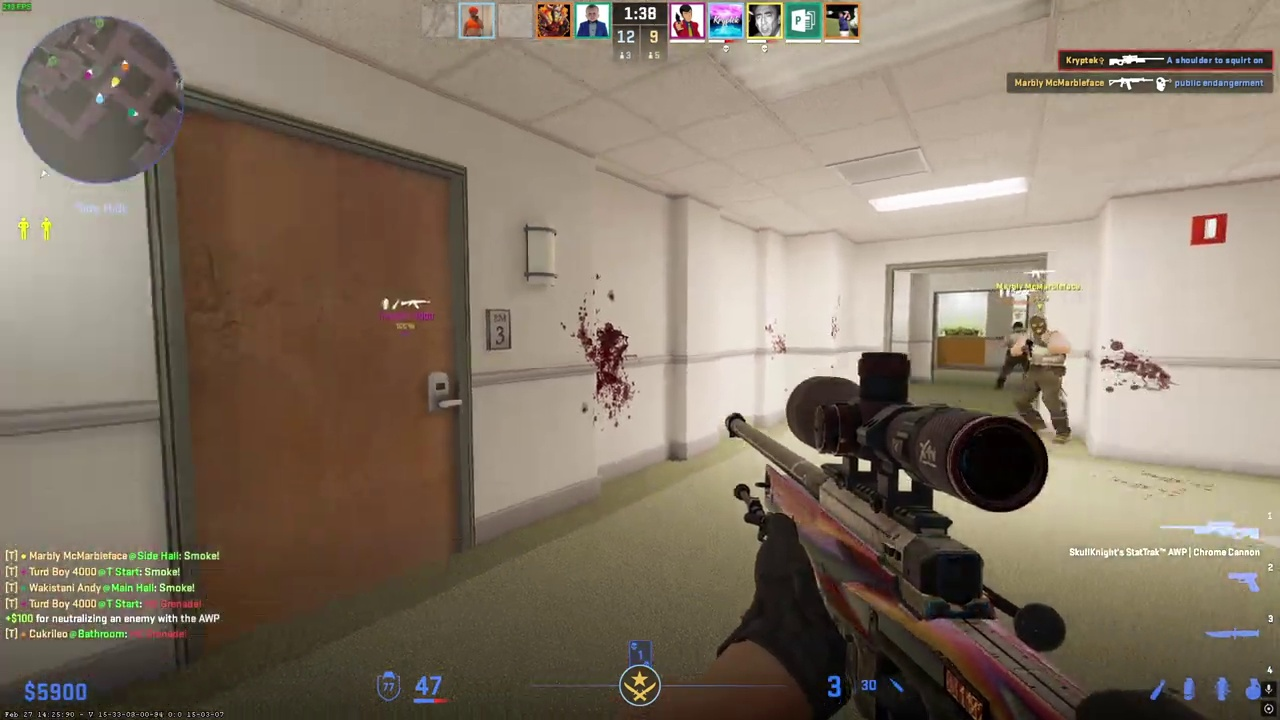Terrorist: (1016, 314, 1071, 440), (998, 322, 1030, 390)
